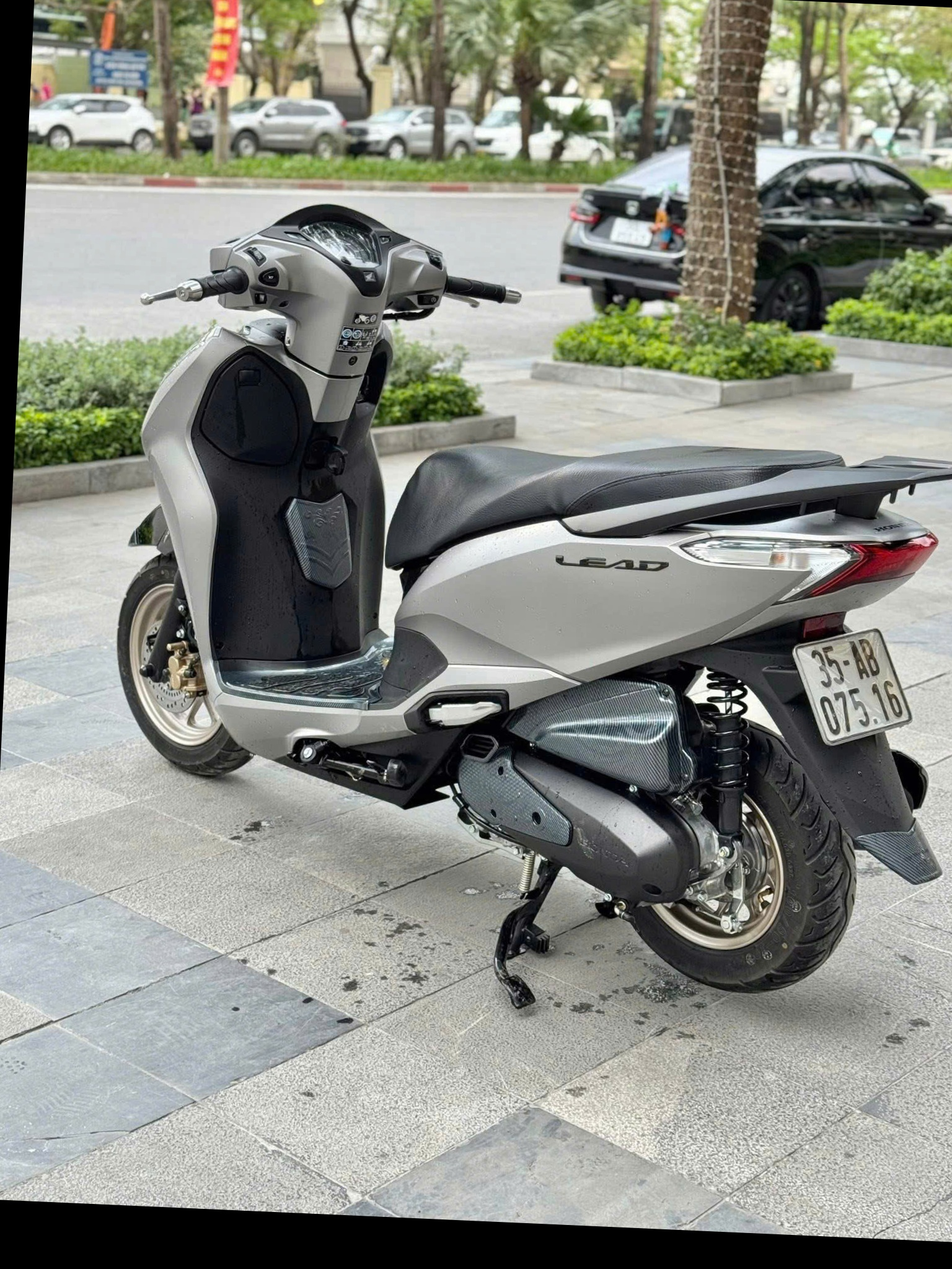Bien-so: (749, 582, 885, 726)
